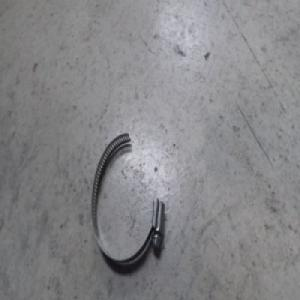AdjustableClamp: (90, 130, 168, 263)
